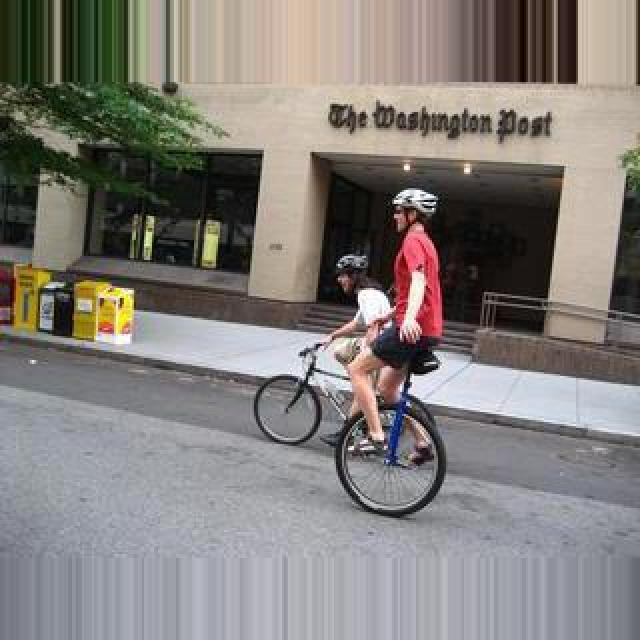MC-Bike: (372, 184, 444, 428), (316, 254, 400, 462)
Person: (256, 333, 446, 517)
